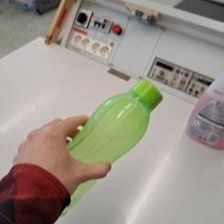bottle: (63, 75, 163, 212)
